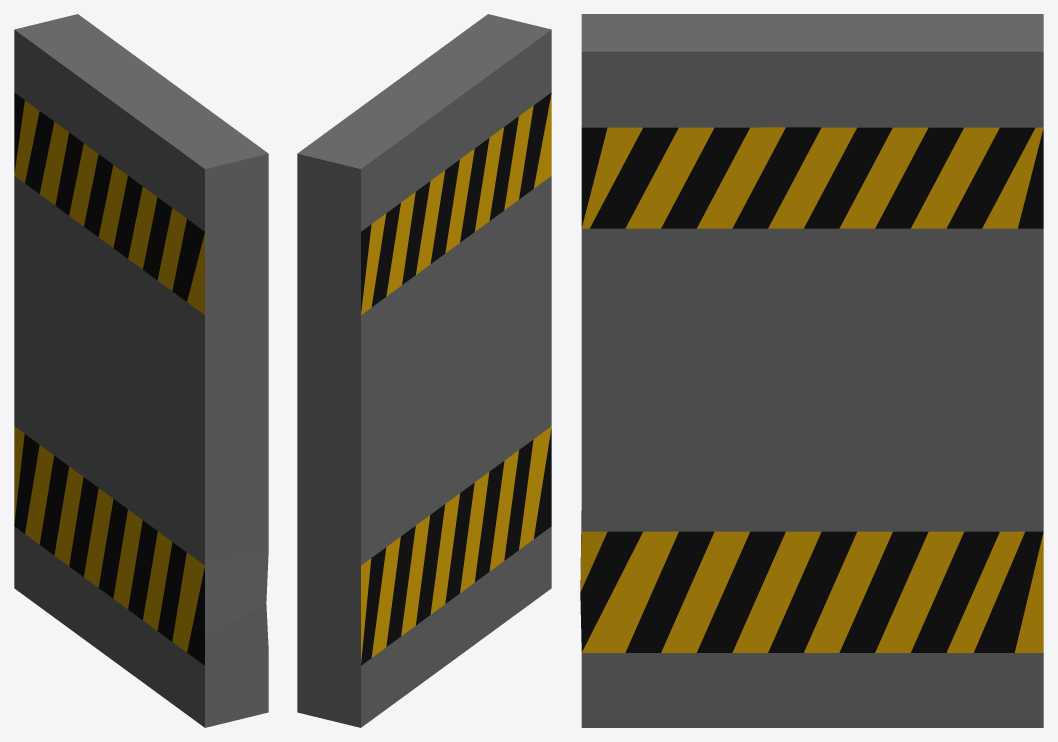
File: Porta1.fbx
The picture shows the model from 3 angles, left to right: view 1: azimuth 30°, elevation 25°; view 2: azimuth 150°, elevation 25°; view 3: azimuth 270°, elevation 25°; orthographic projection. The views are drawn at different scales.
Visible parts, largest first — view 1: Cube.001; view 2: Cube.001; view 3: Cube.001.
Boxes of the visible parts, left/top/right/bottom form: Cube.001: left=14, top=14, right=268, bottom=727; Cube.001: left=297, top=14, right=551, bottom=727; Cube.001: left=580, top=14, right=1043, bottom=727.
Size of the model in its own units: 200 by 1674 by 1039.
